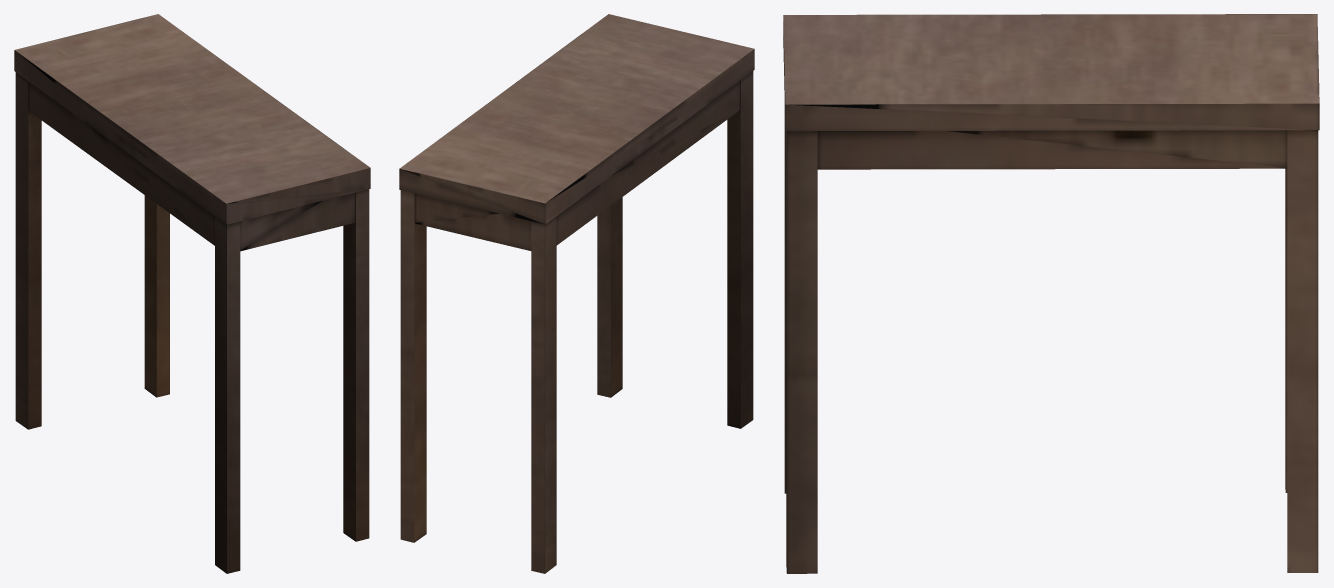
File: bridge_table_2_v3.glb
The picture shows the model from 3 angles, left to right: view 1: azimuth 30°, elevation 25°; view 2: azimuth 150°, elevation 25°; view 3: azimuth 270°, elevation 25°; orthographic projection. The views are drawn at different scales.
Parts seen in each view (by area): view 1: frl_apartment_table_01; view 2: frl_apartment_table_01; view 3: frl_apartment_table_01.
Part boxes in pixels (x1,y1,x2,y2): frl_apartment_table_01: [14, 14, 370, 573]; frl_apartment_table_01: [399, 14, 754, 573]; frl_apartment_table_01: [783, 14, 1319, 573].
Bounding box in the file's own units: 0.36 × 0.87 × 0.9.
Materials: 1 (1 with a texture image).
